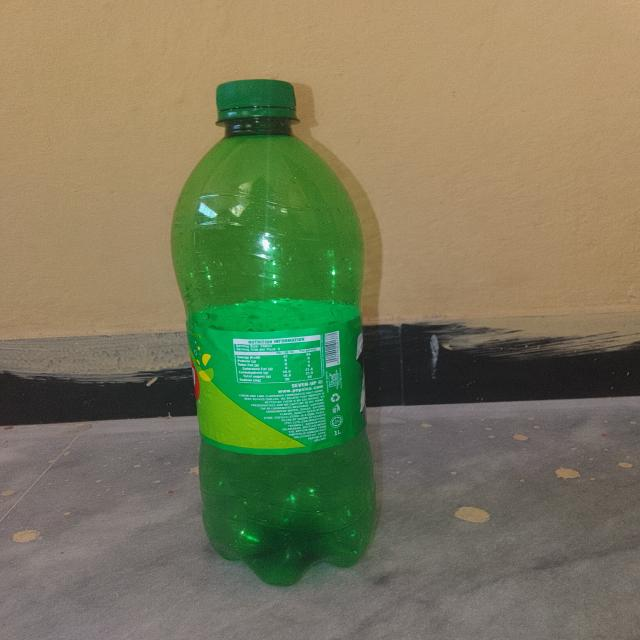bottle: (164, 61, 415, 586)
cap: (207, 77, 308, 125)
label: (189, 311, 374, 464)
